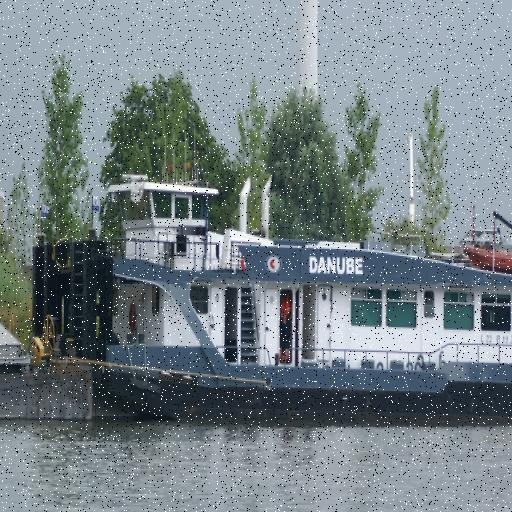tugboat: (25, 164, 512, 448)
